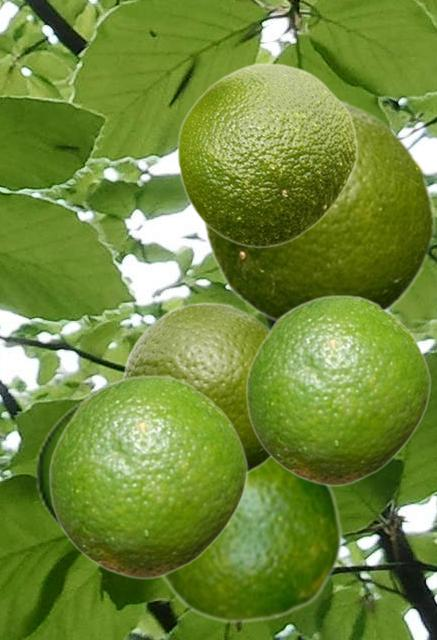calamansi: (202, 99, 435, 322), (48, 374, 247, 579), (245, 294, 430, 486), (176, 62, 357, 248), (158, 460, 343, 623), (122, 300, 271, 474), (34, 391, 92, 543)
